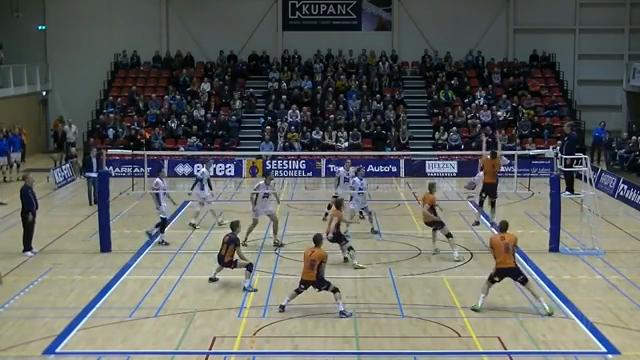Block: (473, 127, 503, 233)
Player: (471, 220, 553, 315), (279, 233, 351, 317), (208, 220, 256, 291), (421, 182, 463, 261), (242, 173, 283, 246), (326, 198, 365, 268), (188, 161, 226, 228), (146, 169, 175, 245), (322, 159, 355, 220), (349, 167, 378, 234)
